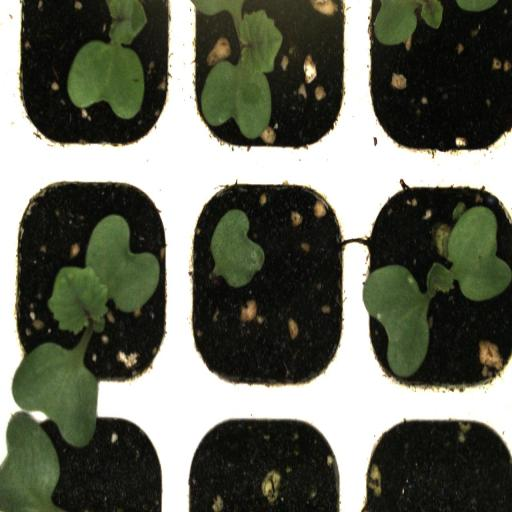seedling: (7, 161, 182, 409), (360, 162, 512, 406), (184, 0, 361, 159)
weak: (183, 161, 360, 410)
